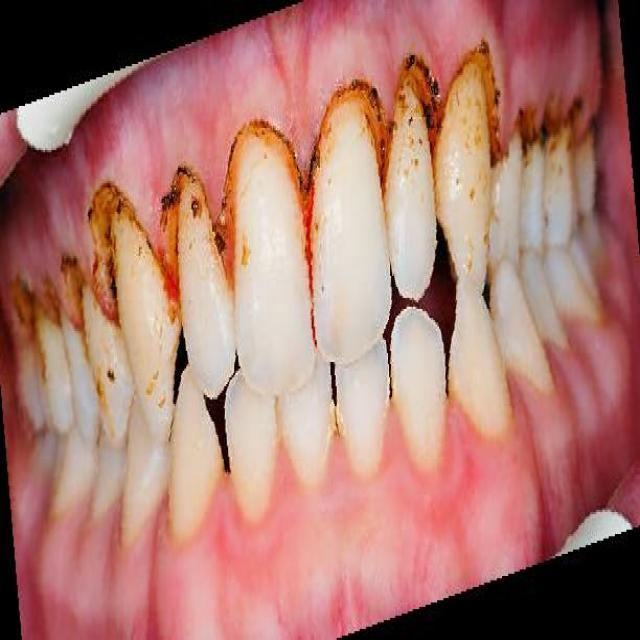calculus: (219, 119, 309, 311), (309, 76, 385, 282), (431, 54, 499, 242), (383, 82, 438, 265), (155, 162, 220, 298)
